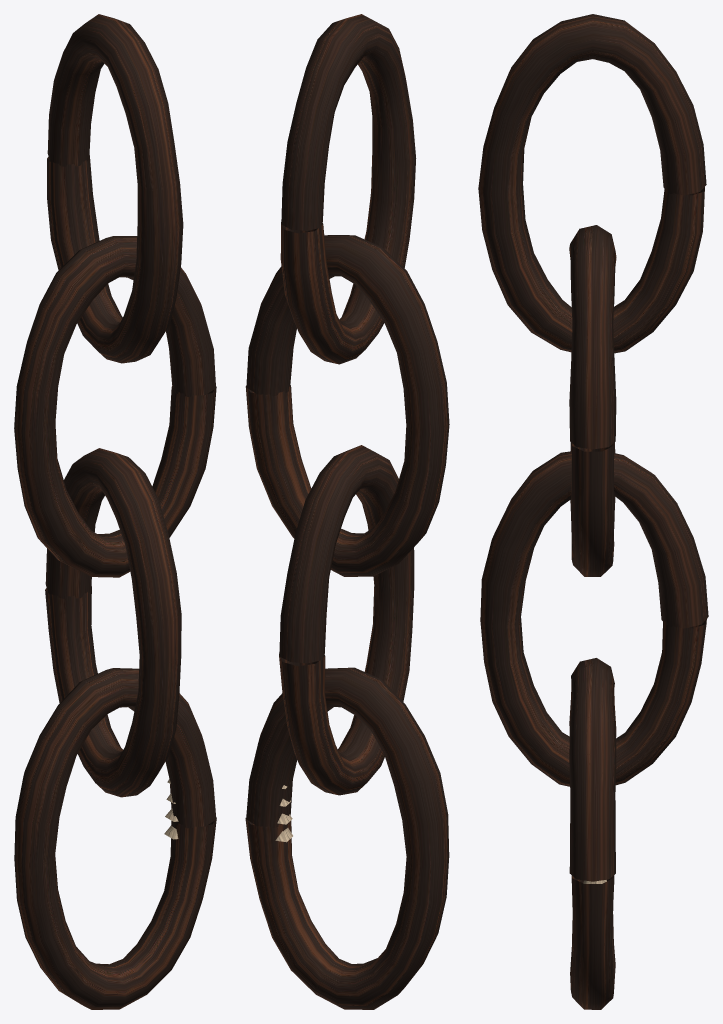
Rendered from chain-links.glb.
3 renders of one model, left to right at view 1: azimuth 30°, elevation 25°; view 2: azimuth 150°, elevation 25°; view 3: azimuth 270°, elevation 25°, orthographic.
Parts seen in each view (by area): view 1: LOD0; view 2: LOD0; view 3: LOD0.
Boxes of the visible parts, x1,y1,x2,y2 form: LOD0: (14,14,216,1009); LOD0: (245,14,449,1009); LOD0: (478,14,708,1009).
Size of what is drawn, in the model's own units: 0.1438 by 0.6863 by 0.1449.
Materials: 1 (1 with a texture image).
